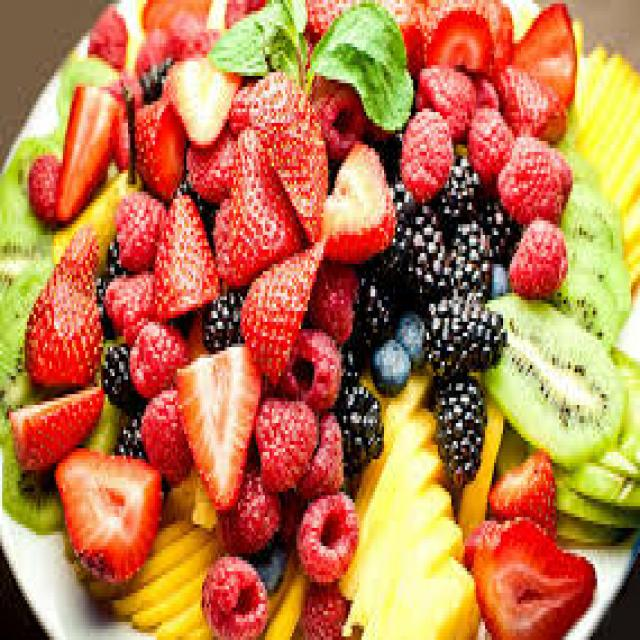organic waste: (481, 289, 624, 470), (570, 14, 638, 290), (514, 336, 638, 474), (337, 438, 442, 600), (0, 391, 119, 532), (168, 336, 260, 514), (52, 441, 160, 586), (211, 119, 303, 286), (355, 478, 451, 636), (471, 514, 593, 636), (247, 58, 323, 242), (310, 0, 411, 130), (23, 224, 101, 380), (238, 235, 321, 380), (355, 365, 431, 517), (76, 517, 216, 597), (229, 123, 301, 275), (375, 514, 463, 636), (52, 159, 142, 275), (355, 401, 433, 521), (54, 79, 121, 217), (310, 0, 418, 80), (106, 535, 224, 608), (319, 134, 391, 253), (7, 383, 103, 470), (150, 188, 213, 315), (164, 43, 240, 141), (0, 133, 58, 260), (216, 448, 280, 560), (422, 286, 505, 372), (494, 130, 570, 221), (0, 271, 49, 412), (510, 0, 575, 105), (254, 390, 316, 499), (398, 554, 478, 636), (485, 445, 557, 535), (554, 256, 620, 351), (294, 485, 357, 582), (564, 231, 631, 322), (456, 398, 501, 532), (204, 0, 281, 76), (200, 550, 265, 636), (130, 94, 182, 199), (433, 372, 483, 481), (139, 380, 191, 481), (555, 177, 624, 253), (496, 61, 564, 138), (422, 0, 494, 72), (305, 72, 366, 156), (505, 210, 566, 293), (128, 311, 189, 394), (278, 322, 337, 405), (400, 105, 451, 199), (175, 141, 216, 253), (128, 564, 213, 618), (559, 452, 638, 510), (290, 408, 341, 496), (362, 180, 413, 268), (258, 0, 310, 83), (101, 264, 157, 340), (400, 199, 442, 300), (56, 51, 121, 116), (554, 474, 638, 524), (115, 192, 166, 271), (414, 61, 469, 134), (184, 123, 234, 199), (310, 257, 355, 340), (442, 213, 490, 290), (355, 260, 395, 351), (92, 235, 128, 336), (467, 101, 512, 181), (342, 376, 379, 470), (162, 463, 211, 528), (200, 282, 245, 347), (83, 0, 126, 65), (101, 340, 142, 408), (301, 575, 346, 636), (261, 539, 294, 622), (265, 564, 303, 636), (438, 152, 478, 220), (247, 528, 283, 593), (371, 333, 406, 394), (137, 0, 209, 29), (27, 152, 56, 224), (110, 398, 144, 456), (561, 517, 638, 542), (483, 195, 514, 257), (108, 80, 130, 166), (153, 596, 200, 636), (557, 138, 595, 185), (463, 517, 496, 568), (132, 54, 170, 98), (395, 304, 422, 365), (483, 0, 510, 58), (135, 25, 173, 65), (494, 423, 523, 474), (171, 22, 213, 54), (162, 7, 200, 40), (222, 0, 265, 29), (337, 340, 355, 398), (227, 83, 249, 130), (472, 69, 496, 105), (108, 72, 137, 98), (490, 256, 503, 286)
